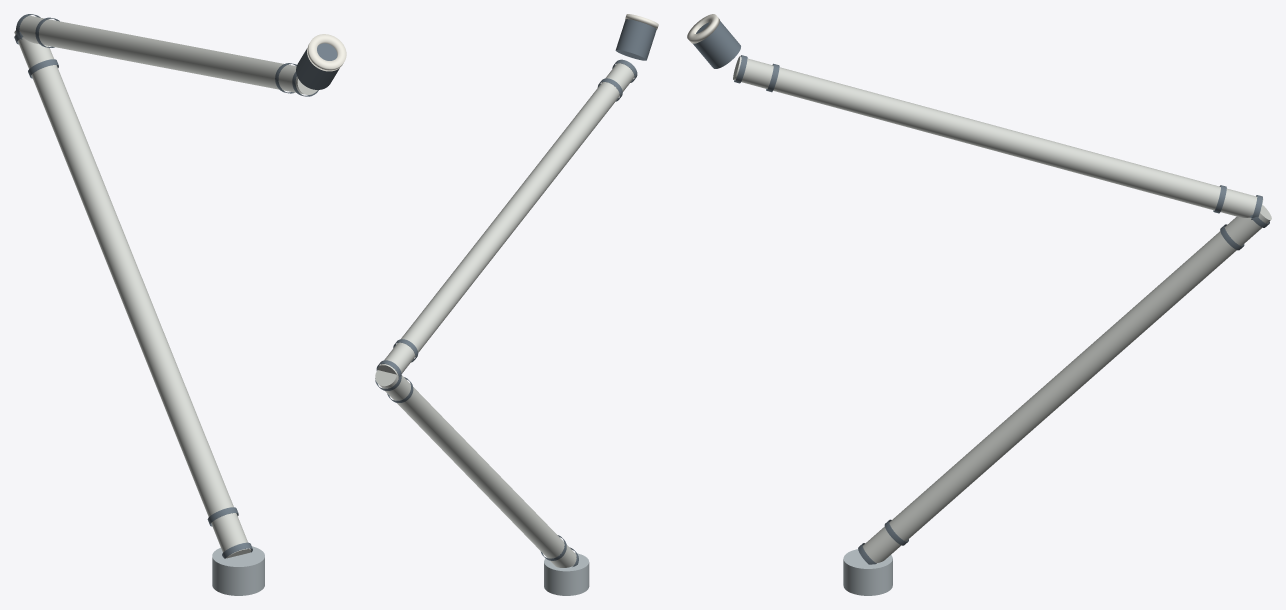
Rendered from iss_canadarm2.base_roll.glb.
3 views of the same model, side by side, from view 1: azimuth 30°, elevation 25°; view 2: azimuth 150°, elevation 25°; view 3: azimuth 270°, elevation 25° (orthographic). The views are drawn at different scales.
Visible parts, largest first — view 1: iss_canadarm2.base_roll.shoulder_pitch.mesh_Pale_thermal_bla, iss_canadarm2.base_roll.shoulder_pitch.elbow_pitch.mesh_Pale, iss_canadarm2.base_roll.mesh_Satin_aluminum, iss_canadarm2.base_roll.shoulder_pitch.elbow_pitch.wrist_pit (×2), iss_canadarm2.base_roll.shoulder_pitch.mesh_Machined_steel, iss_canadarm2.base_roll.shoulder_pitch.elbow_pitch.mesh_Mach; view 2: iss_canadarm2.base_roll.shoulder_pitch.elbow_pitch.mesh_Pale, iss_canadarm2.base_roll.shoulder_pitch.mesh_Pale_thermal_bla, iss_canadarm2.base_roll.mesh_Satin_aluminum, iss_canadarm2.base_roll.shoulder_pitch.elbow_pitch.wrist_pit, iss_canadarm2.base_roll.shoulder_pitch.elbow_pitch.mesh_Mach, iss_canadarm2.base_roll.shoulder_pitch.mesh_Machined_steel; view 3: iss_canadarm2.base_roll.shoulder_pitch.elbow_pitch.mesh_Pale, iss_canadarm2.base_roll.shoulder_pitch.mesh_Pale_thermal_bla, iss_canadarm2.base_roll.mesh_Satin_aluminum, iss_canadarm2.base_roll.shoulder_pitch.elbow_pitch.wrist_pit.
Part boxes in pixels (x1,y1,x2,y2): iss_canadarm2.base_roll.shoulder_pitch.mesh_Pale_thermal_bla: [14, 30, 251, 558]; iss_canadarm2.base_roll.shoulder_pitch.elbow_pitch.mesh_Pale: [19, 15, 317, 94]; iss_canadarm2.base_roll.mesh_Satin_aluminum: [212, 546, 264, 595]; iss_canadarm2.base_roll.shoulder_pitch.elbow_pitch.wrist_pit (×2): [296, 34, 346, 89]; iss_canadarm2.base_roll.shoulder_pitch.mesh_Machined_steel: [14, 32, 252, 558]; iss_canadarm2.base_roll.shoulder_pitch.elbow_pitch.mesh_Mach: [16, 14, 318, 96]; iss_canadarm2.base_roll.shoulder_pitch.elbow_pitch.mesh_Pale: [377, 63, 634, 376]; iss_canadarm2.base_roll.shoulder_pitch.mesh_Pale_thermal_bla: [375, 370, 576, 567]; iss_canadarm2.base_roll.mesh_Satin_aluminum: [544, 553, 589, 595]; iss_canadarm2.base_roll.shoulder_pitch.elbow_pitch.wrist_pit: [615, 19, 656, 60]; iss_canadarm2.base_roll.shoulder_pitch.elbow_pitch.mesh_Mach: [376, 59, 637, 378]; iss_canadarm2.base_roll.shoulder_pitch.mesh_Machined_steel: [375, 376, 578, 566]; iss_canadarm2.base_roll.shoulder_pitch.elbow_pitch.mesh_Pale: [733, 56, 1263, 217]; iss_canadarm2.base_roll.shoulder_pitch.mesh_Pale_thermal_bla: [862, 205, 1271, 563]; iss_canadarm2.base_roll.mesh_Satin_aluminum: [843, 549, 892, 595]; iss_canadarm2.base_roll.shoulder_pitch.elbow_pitch.wrist_pit: [693, 21, 740, 68].
Size of the model in its own units: 0.68 by 8.64 by 8.05.
